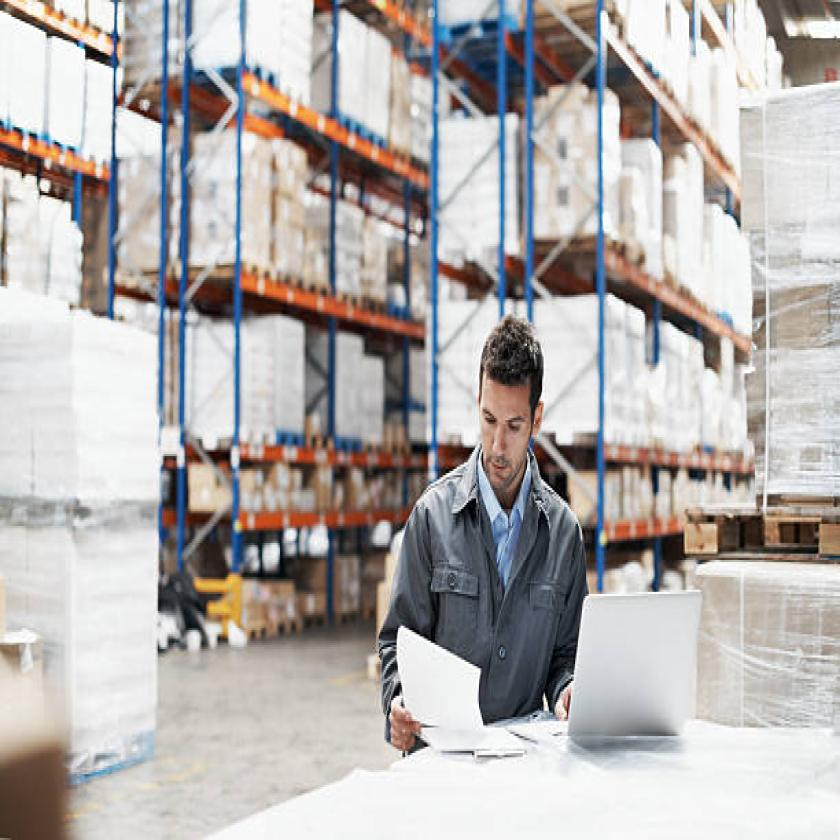Sin_casco: (473, 317, 551, 499)
